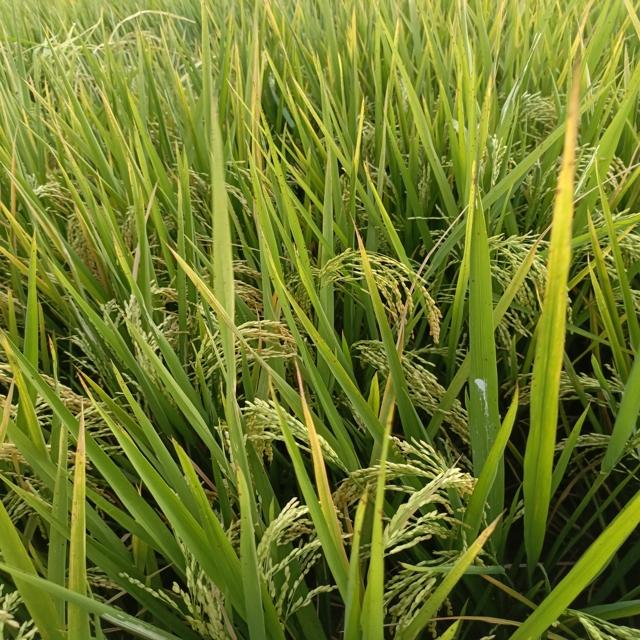Brown spot: (69, 394, 88, 547)
